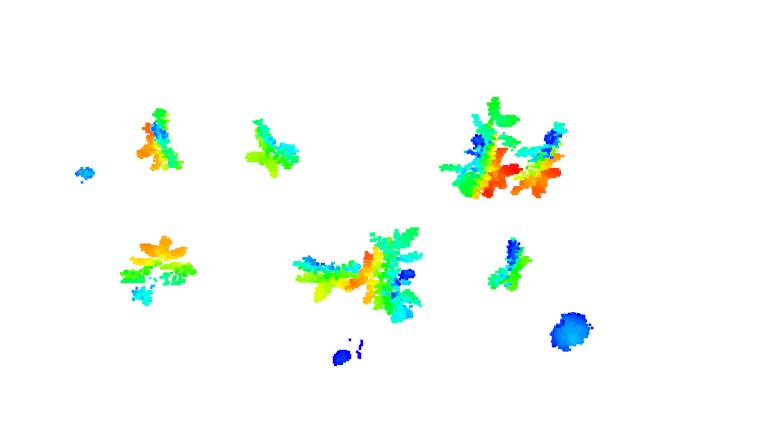chickpea: (436, 95, 520, 202), (361, 226, 424, 323), (116, 235, 199, 305), (508, 120, 572, 197), (291, 253, 365, 305), (132, 106, 185, 173), (242, 117, 301, 177), (482, 234, 532, 292)
